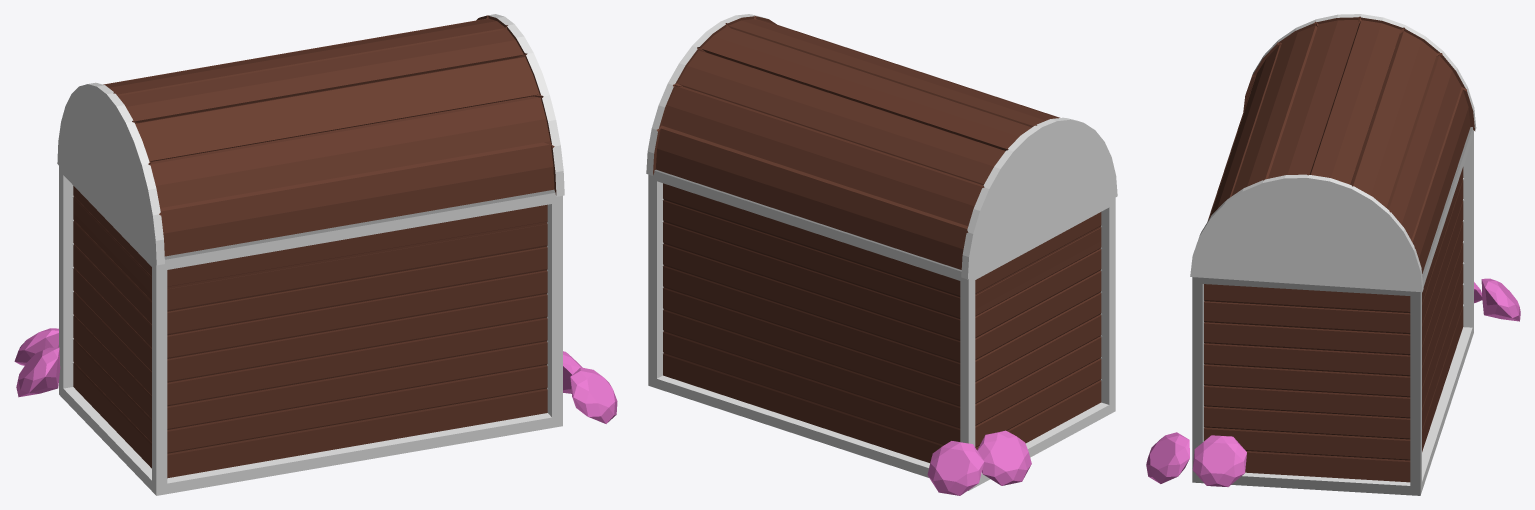
Rendered from cofre.fbx.
The picture shows the model from 3 angles, left to right: view 1: azimuth 30°, elevation 25°; view 2: azimuth 150°, elevation 25°; view 3: azimuth 270°, elevation 25°; orthographic projection. The views are drawn at different scales.
Visible parts, largest first — view 1: Cube; view 2: Cube; view 3: Cube.
Boxes of the visible parts, x1,y1,x2,y2 form: Cube: (14, 14, 617, 495); Cube: (646, 14, 1117, 495); Cube: (1146, 14, 1520, 495).
Size of the model in its own units: 393 by 299 by 325.
